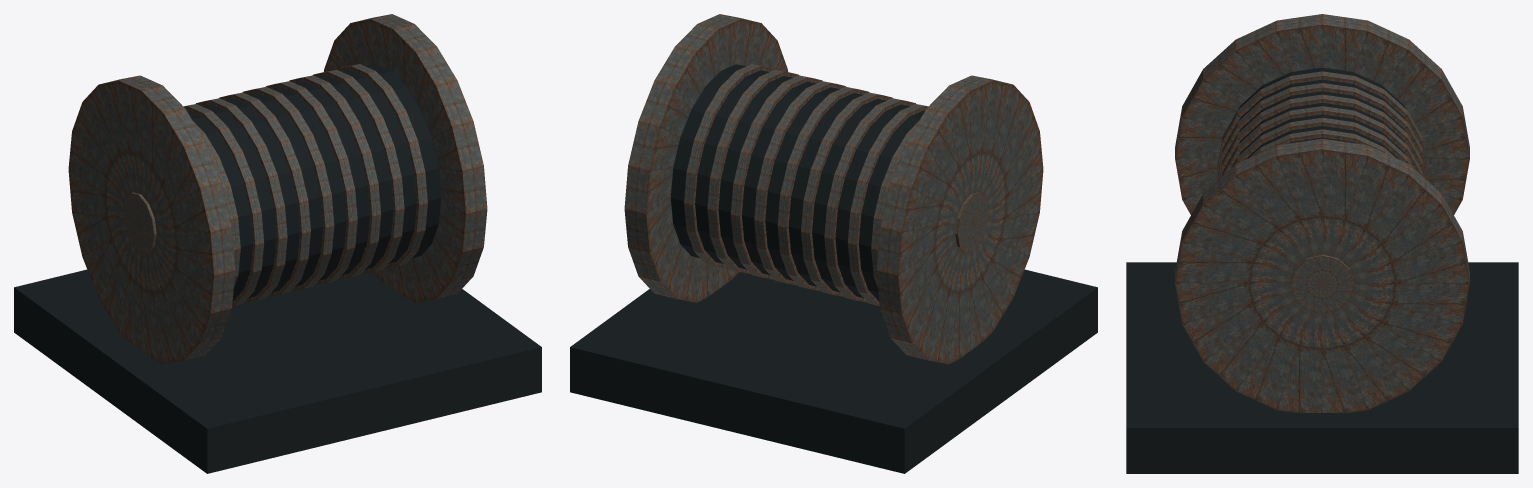
The model's file is CableReel.obj.
3 views of the same model, side by side, from view 1: azimuth 30°, elevation 25°; view 2: azimuth 150°, elevation 25°; view 3: azimuth 270°, elevation 25° (orthographic).
Parts seen in each view (by area): view 1: CableReel; view 2: CableReel; view 3: CableReel.
Boxes of the visible parts, x1=… form: CableReel: x1=14, y1=14, x2=541, y2=473; CableReel: x1=570, y1=14, x2=1097, y2=473; CableReel: x1=1126, y1=14, x2=1518, y2=473.
Size of the model in its own units: 1.86 by 1.62 by 1.86.
3 materials, 2 textured.
